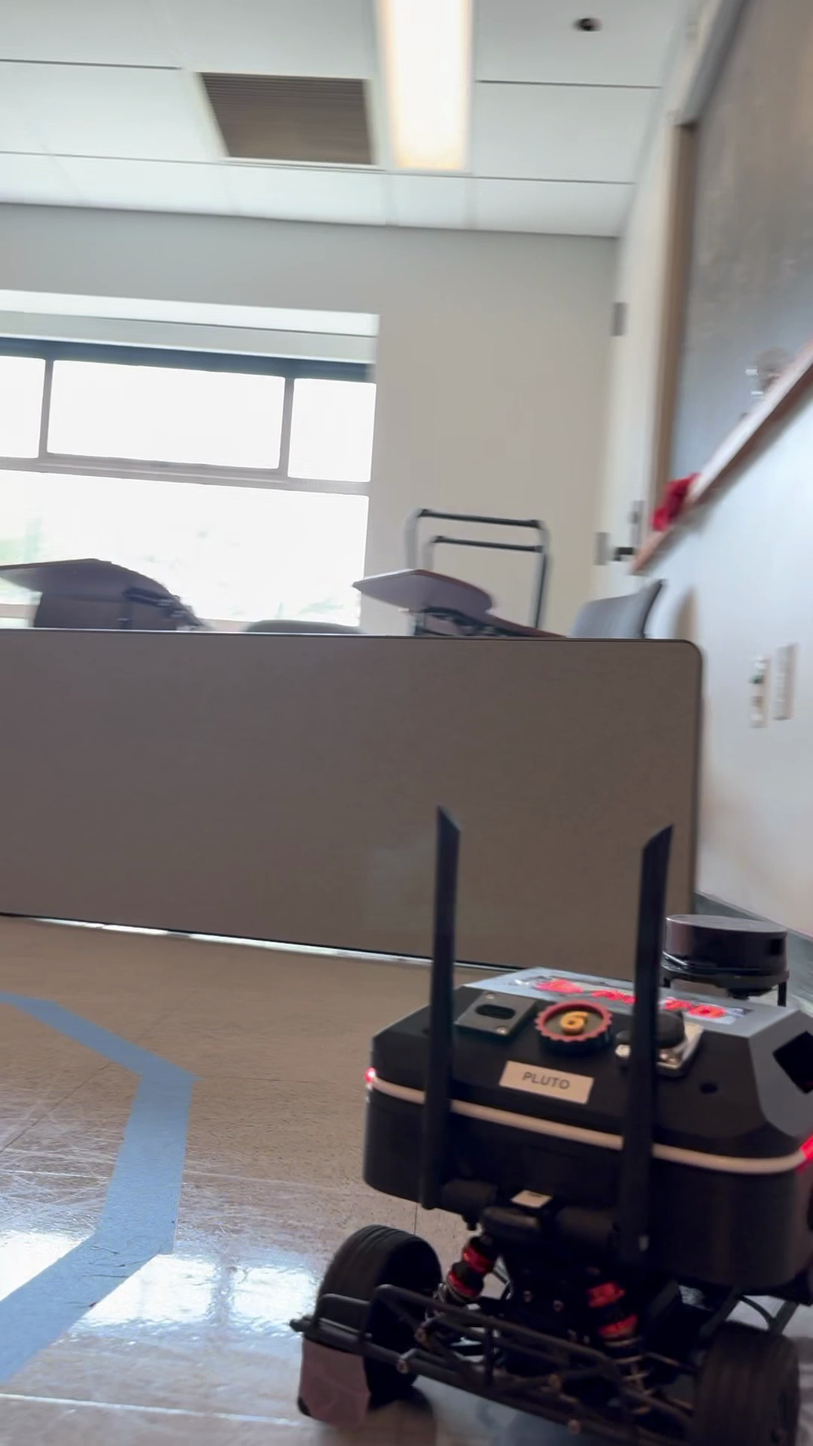racecar: (284, 803, 813, 1440)
